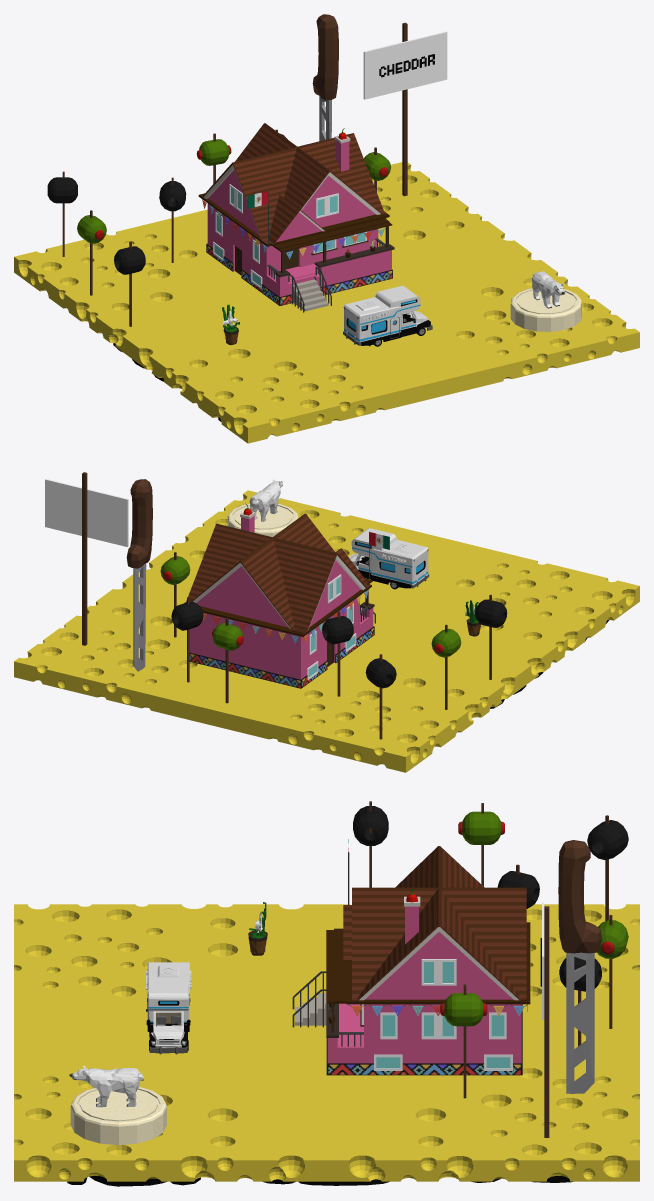
The picture shows the model from 3 angles, top to bottom: view 1: azimuth 30°, elevation 25°; view 2: azimuth 150°, elevation 25°; view 3: azimuth 270°, elevation 25°; orthographic projection. The views are drawn at different scales.
Parts seen in each view (by area): view 1: Cube.022, Cube.1005, Cube.023, VEHICLES_CAMPER, Cylinder.016, Cube.024, Sphere.017, Sphere.016, Sphere.020, Sphere.018, ANIMAL_OSO_POLAR, Sphere.022 (+1 smaller); view 2: Cube.022, Cube.1005, Cube.023, VEHICLES_CAMPER, Cube.024, Cylinder.016, Sphere.020, Sphere.016, Sphere.022, Sphere.017, Sphere.021, Sphere.018 (+2 smaller); view 3: Cube.022, Cube.1005, Cube.024, Cylinder.016, VEHICLES_CAMPER, Cube.023, ANIMAL_OSO_POLAR, Sphere.019, Sphere.016, Sphere.018, Curve.014, Sphere.017 (+4 smaller).
Part boxes in pixels (box(x1,y1,x2,y2)): Cube.022: box(14, 162, 639, 443); Cube.1005: box(198, 123, 394, 312); Cube.023: box(363, 22, 447, 196); VEHICLES_CAMPER: box(343, 285, 432, 346); Cylinder.016: box(510, 288, 581, 331); Cube.024: box(312, 14, 338, 141); Sphere.017: box(114, 241, 145, 326); Sphere.016: box(47, 171, 77, 256); Sphere.020: box(159, 177, 186, 262); Sphere.018: box(77, 210, 106, 295); ANIMAL_OSO_POLAR: box(532, 271, 565, 308); Sphere.022: box(196, 133, 231, 183); Cube.022: box(14, 490, 639, 772); Cube.1005: box(184, 503, 389, 688); Cube.023: box(45, 472, 128, 645); VEHICLES_CAMPER: box(348, 528, 429, 589); Cube.024: box(126, 479, 152, 671); Cylinder.016: box(227, 503, 298, 536); Sphere.020: box(322, 611, 353, 696); Sphere.016: box(365, 654, 396, 739); Sphere.022: box(212, 618, 243, 703); Sphere.017: box(475, 594, 507, 679); Sphere.021: box(171, 597, 203, 682); Sphere.018: box(431, 624, 461, 709); Cube.022: box(14, 904, 639, 1181); Cube.1005: box(292, 839, 530, 1075); Cube.024: box(558, 840, 602, 1093); Cylinder.016: box(70, 1087, 166, 1145); VEHICLES_CAMPER: box(146, 962, 191, 1054); Cube.023: box(540, 902, 549, 1137); ANIMAL_OSO_POLAR: box(69, 1065, 143, 1107); Sphere.019: box(440, 984, 487, 1098); Sphere.016: box(587, 815, 628, 920); Sphere.018: box(458, 803, 504, 886); Curve.014: box(67, 1176, 572, 1186); Sphere.017: box(353, 801, 388, 887).
Bounding box in the file's own units: 3917 × 1980 × 4000.
72 materials, 5 textured.
